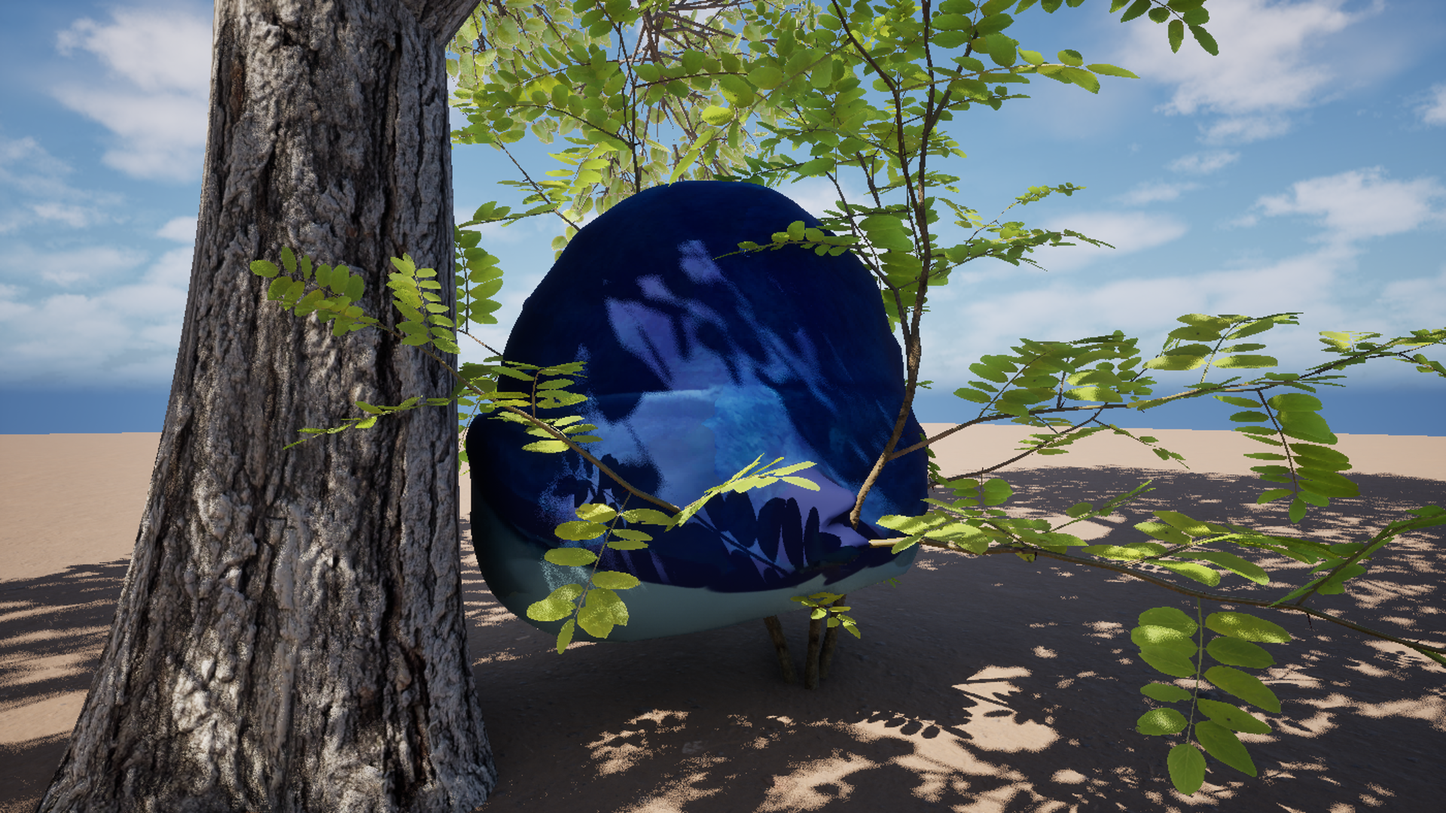Piplup: (394, 0, 1134, 813)
